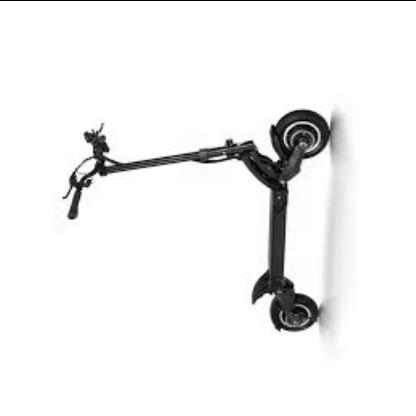bike: (60, 108, 332, 333)
